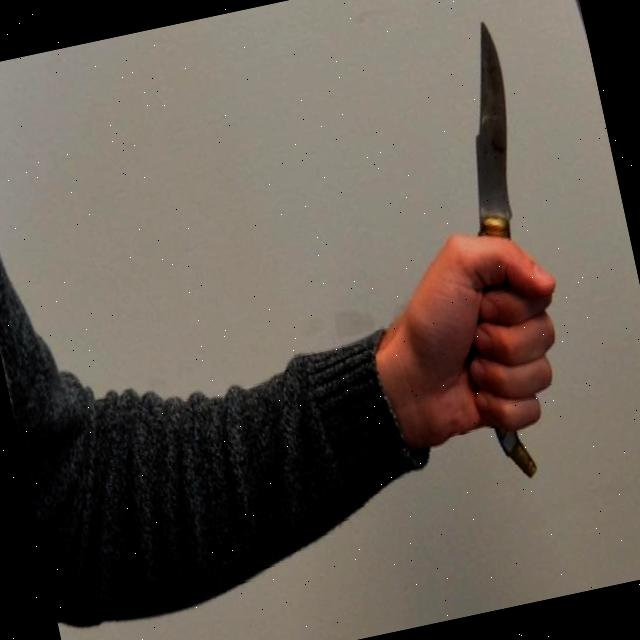suspicion: (0, 6, 610, 640), (434, 13, 542, 239), (490, 428, 540, 488)
